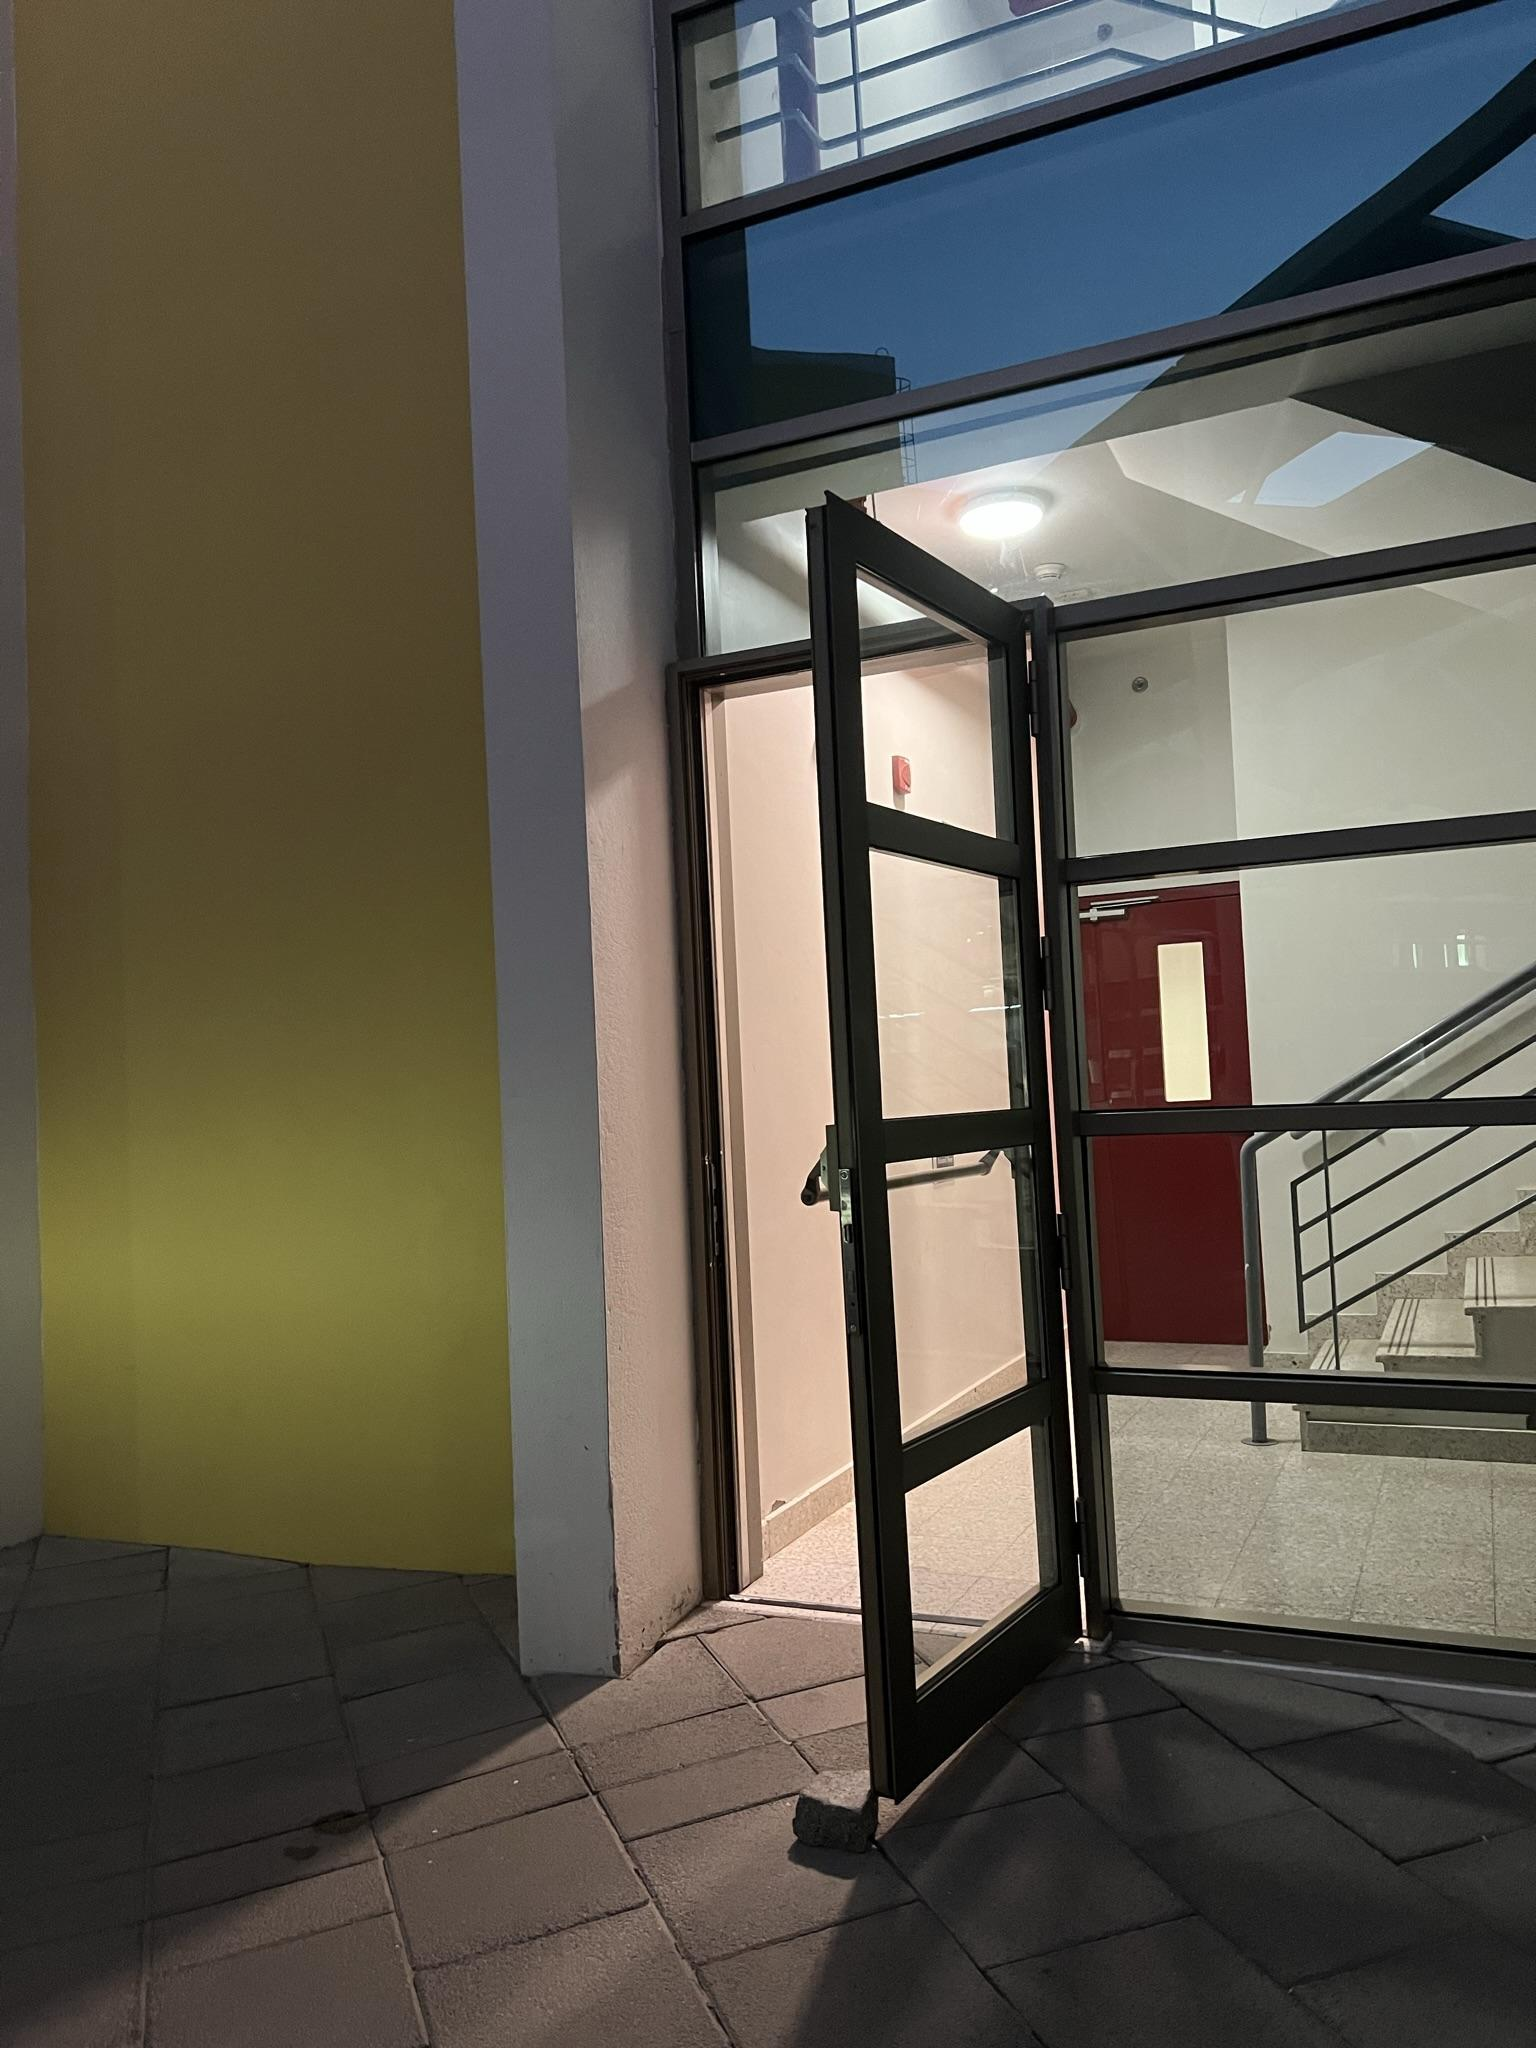door: (826, 497, 1073, 1785)
